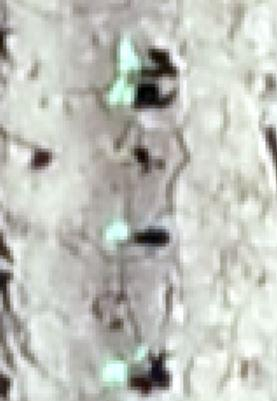cotton: (119, 40, 143, 73), (110, 81, 135, 106), (105, 358, 129, 384), (108, 219, 133, 243)
